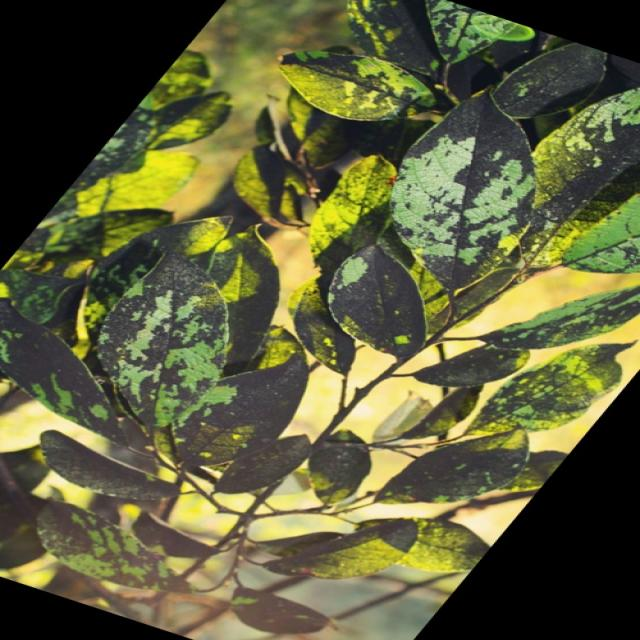Sooty Mold: (3, 1, 636, 636)
